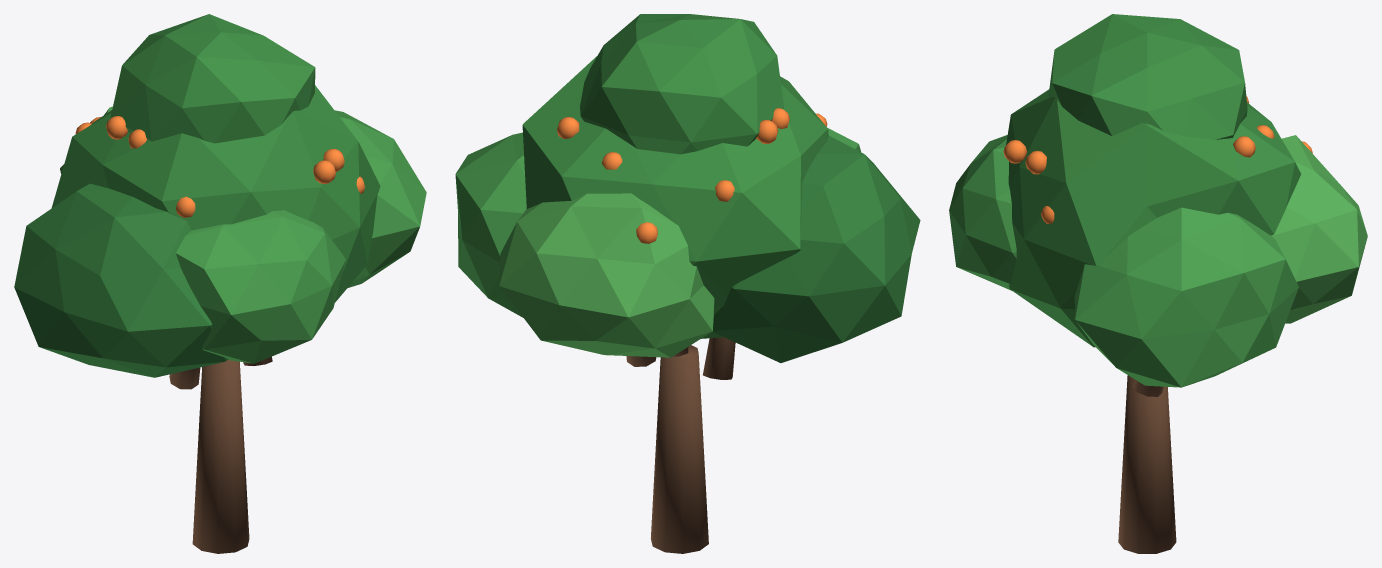
File: fruit_tree.glb
The picture shows the model from 3 angles, left to right: view 1: azimuth 30°, elevation 25°; view 2: azimuth 150°, elevation 25°; view 3: azimuth 270°, elevation 25°; orthographic projection. The views are drawn at different scales.
Visible parts, largest first — view 1: Leaf, Stem, Fruit; view 2: Leaf, Stem, Fruit; view 3: Leaf, Stem, Fruit.
Boxes of the visible parts, bbox=[...] form: Leaf: bbox=[14, 14, 426, 377]; Stem: bbox=[169, 356, 272, 553]; Fruit: bbox=[75, 116, 364, 217]; Leaf: bbox=[455, 14, 920, 362]; Stem: bbox=[626, 337, 735, 553]; Fruit: bbox=[557, 108, 827, 243]; Leaf: bbox=[949, 14, 1367, 387]; Stem: bbox=[1118, 375, 1176, 553]; Fruit: bbox=[1003, 96, 1312, 223].
Bounding box in the file's own units: 2.75 × 3.29 × 2.45.
